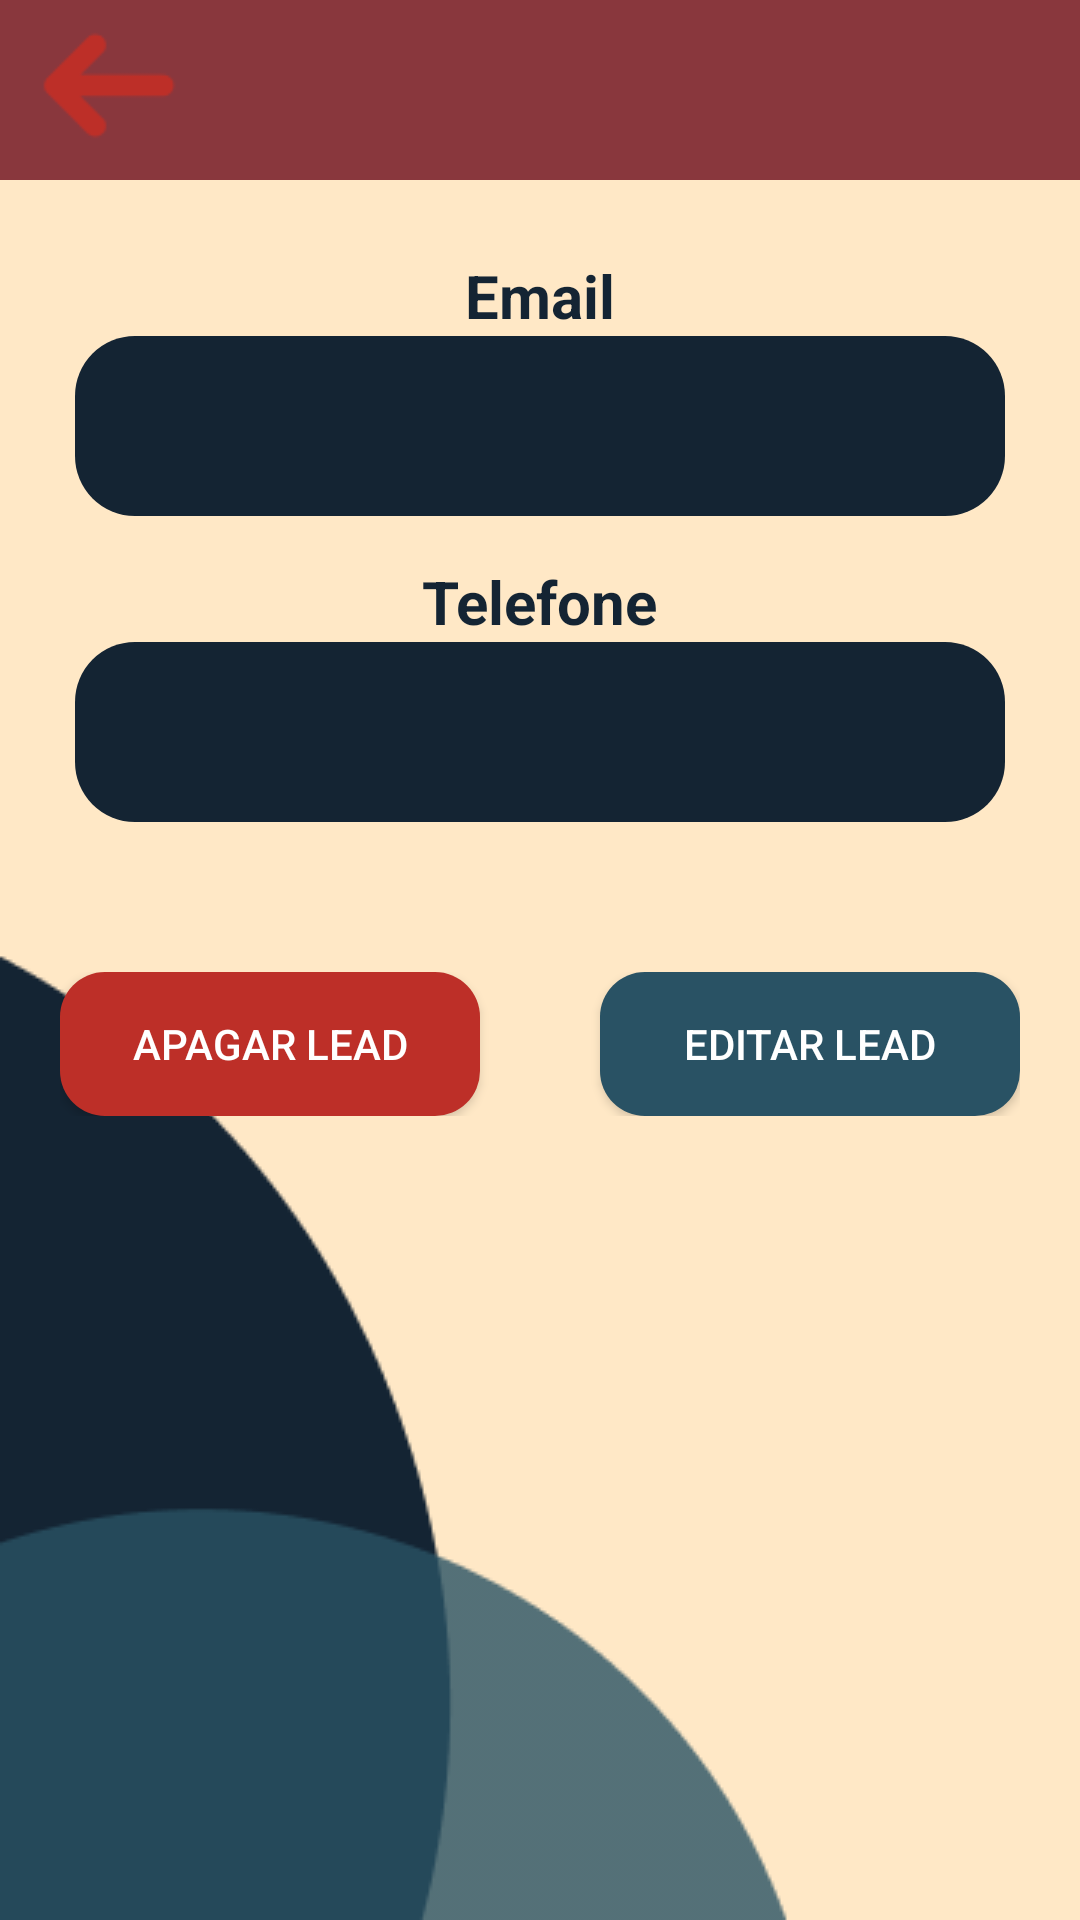

Where icons sit on this 1080px×1920px app screen, as (x1, y1, x2, y2):
arrow: (44, 34, 174, 136)
